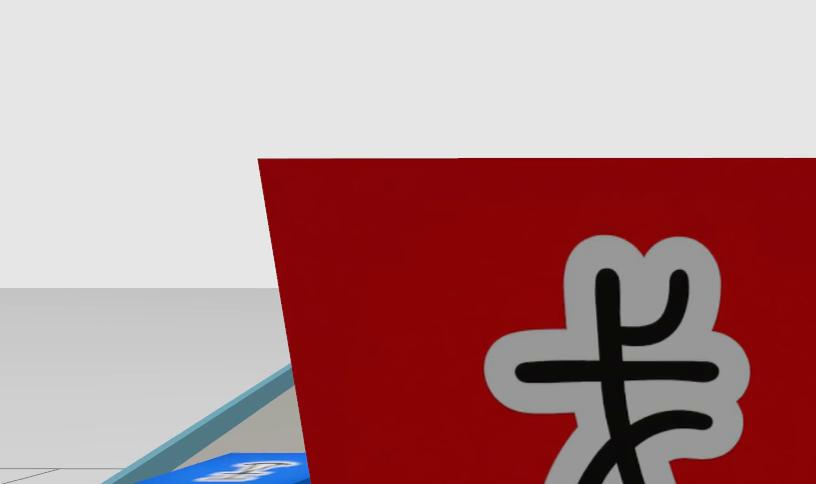KFS_FAKE: (261, 160, 816, 484), (484, 235, 748, 484)
